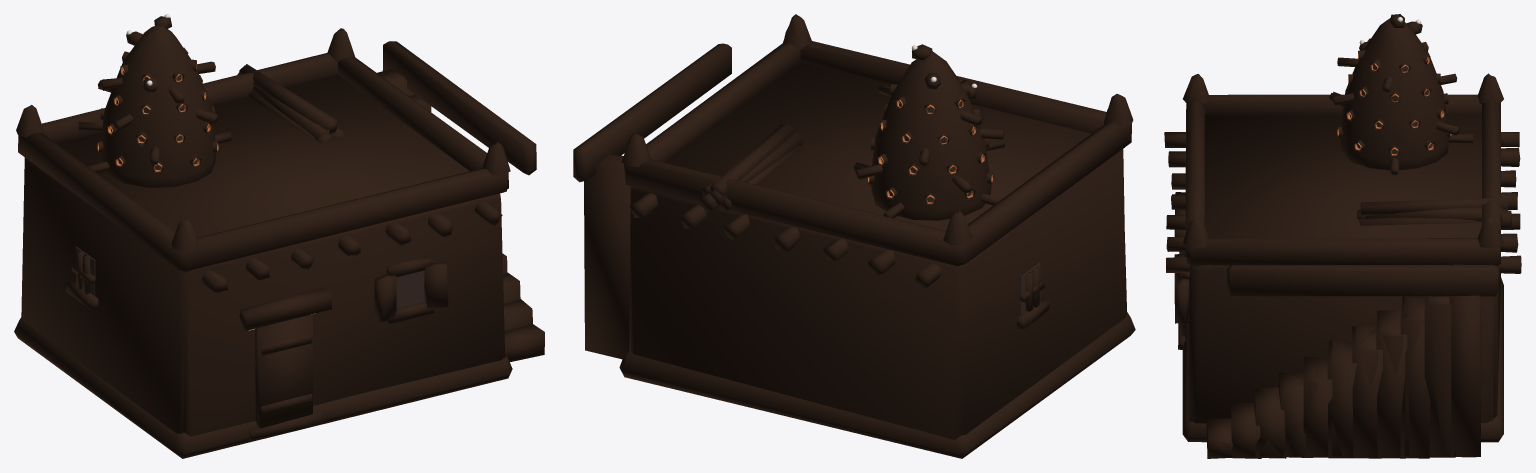
Rendered from house_b.glb.
The picture shows the model from 3 angles, left to right: view 1: azimuth 30°, elevation 25°; view 2: azimuth 150°, elevation 25°; view 3: azimuth 270°, elevation 25°; orthographic projection. The views are drawn at different scales.
Visible parts, largest first — view 1: house_b_LOD1_outline, house_b_outline, house_b; view 2: house_b_LOD1_outline, house_b_outline, house_b; view 3: house_b_LOD1_outline, house_b_outline, house_b.
Part boxes in pixels (x1,y1,x2,y2): house_b_LOD1_outline: (14,16,544,458); house_b_outline: (18,17,531,447); house_b: (76,14,424,330); house_b_LOD1_outline: (573,14,1135,458); house_b_outline: (579,21,1131,408); house_b: (868,45,1040,314); house_b_LOD1_outline: (1164,14,1521,458); house_b_outline: (1165,16,1521,457); house_b: (1337,17,1451,155).
Size of what is drawn, in the model's own units: 7.37 by 6.22 by 6.28.
